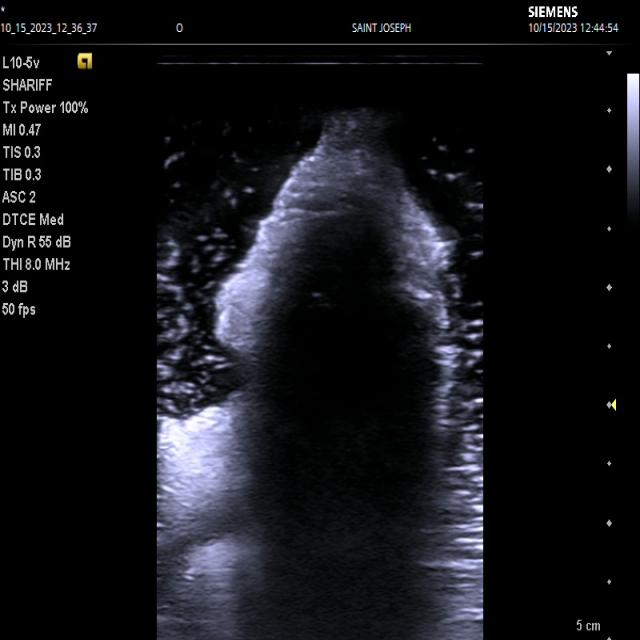tissue: (162, 109, 483, 640)
